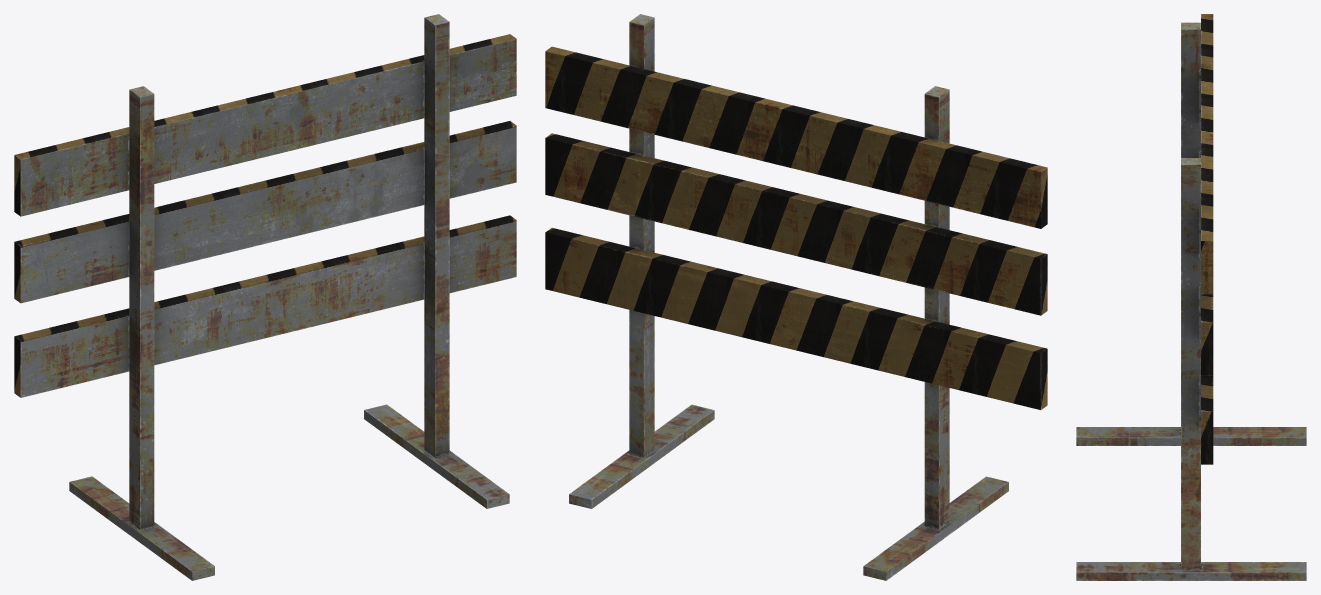
File: roadblock_vertical.fbx
3 renders of one model, left to right at view 1: azimuth 30°, elevation 25°; view 2: azimuth 150°, elevation 25°; view 3: azimuth 270°, elevation 25°, orthographic. The views are drawn at different scales.
Parts seen in each view (by area): view 1: polySurface170; view 2: polySurface170; view 3: polySurface170.
Part boxes in pixels (left/top/right/bottom): polySurface170: left=14, top=14, right=516, bottom=580; polySurface170: left=545, top=14, right=1047, bottom=580; polySurface170: left=1076, top=14, right=1306, bottom=580.
Bounding box in the file's own units: 229 × 195 × 98.4.
